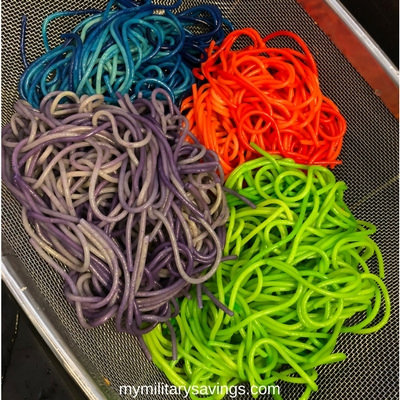plain spaghetti: (31, 111, 199, 287)
